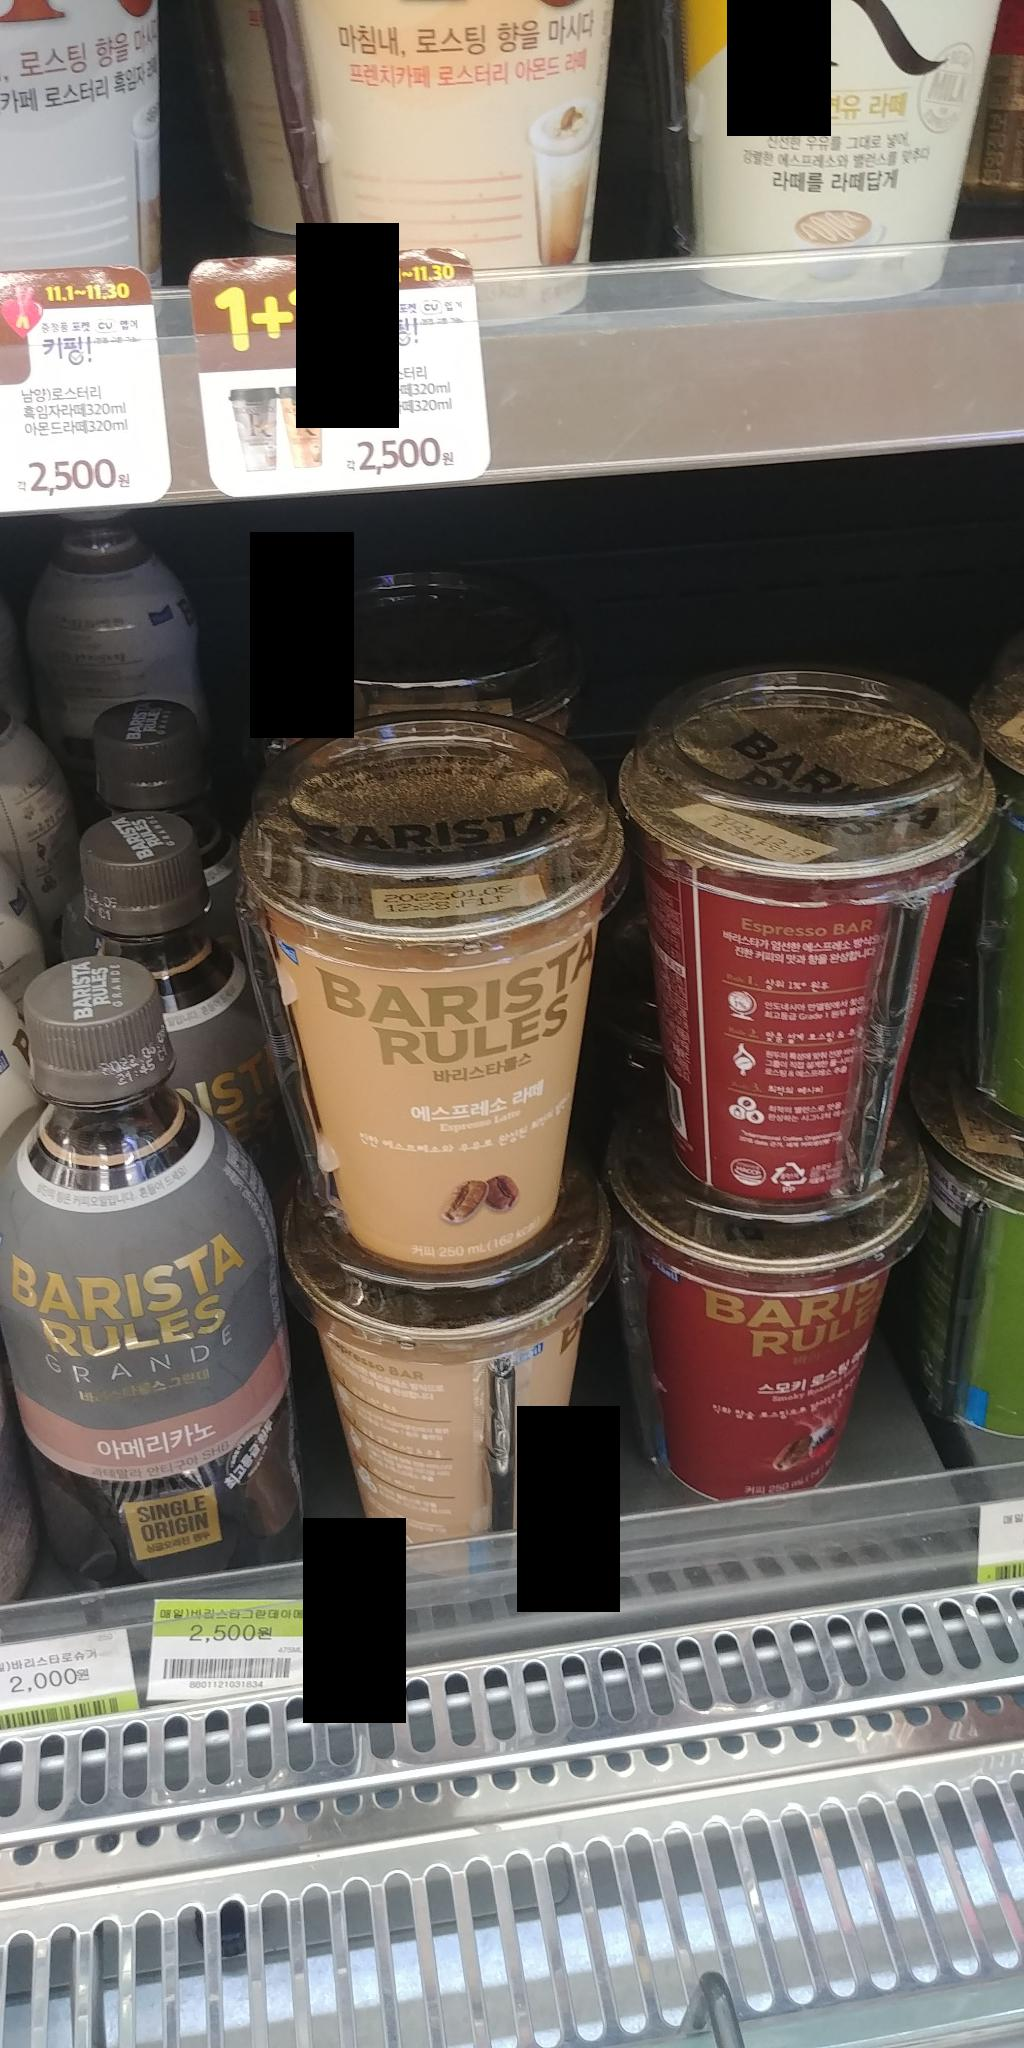baristarules_espressolatte: (232, 709, 611, 1266), (277, 1236, 649, 1586)
